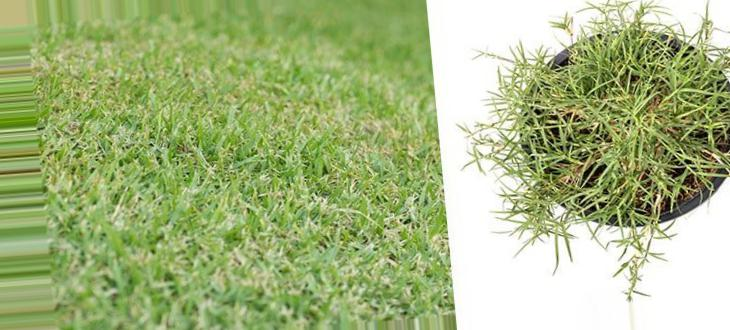patch: (88, 43, 135, 83), (365, 116, 414, 151), (330, 105, 358, 134)
